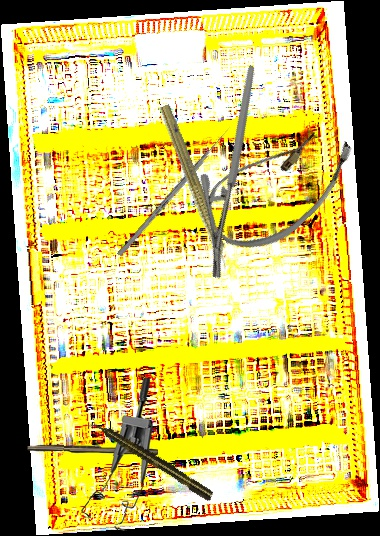Cannula: (192, 99, 367, 271)
Handpiece: (152, 102, 239, 284), (87, 416, 216, 503)
Needle Holder: (151, 65, 318, 280)
Pusher: (116, 124, 234, 258)
Scalpel Handle: (26, 442, 159, 456)
Speculum: (76, 378, 158, 533)
